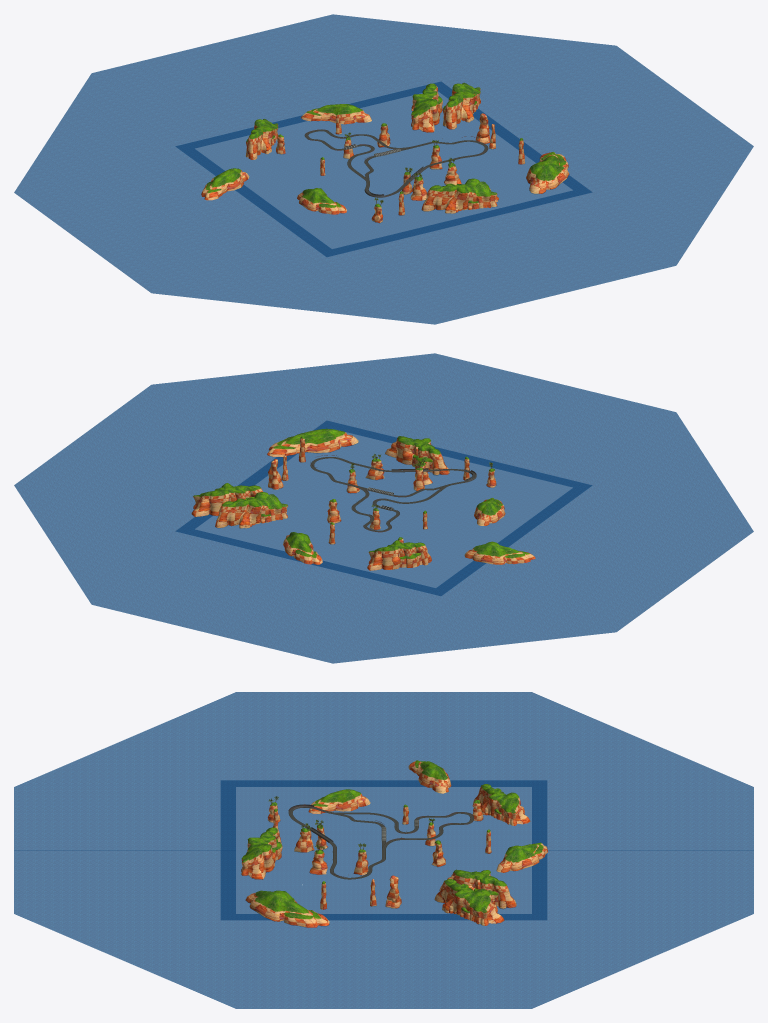
3 renders of one model, top to bottom at view 1: azimuth 30°, elevation 25°; view 2: azimuth 150°, elevation 25°; view 3: azimuth 270°, elevation 25°, orthographic. The views are drawn at different scales.
Visible parts, largest first — view 1: twn_d_sea02xno0_3, twn_d_sea02xno1_4, twn_d_sea01xno0_6, twn_d_farcliff_nos_xno1_19, twn_d_farcliff_nos_xno0_18, twn_d_cliffxno0_29, twn_d_circuitxno2_34; view 2: twn_d_sea02xno0_3, twn_d_sea02xno1_4, twn_d_sea01xno0_6, twn_d_farcliff_nos_xno1_19, twn_d_farcliff_nos_xno0_18, twn_d_cliffxno0_29, twn_d_circuitxno2_34; view 3: twn_d_sea02xno0_3, twn_d_sea02xno1_4, twn_d_sea01xno0_6, twn_d_farcliff_nos_xno1_19, twn_d_farcliff_nos_xno0_18, twn_d_cliffxno0_29, twn_d_circuitxno2_34.
Boxes of the visible parts, x1,y1,x2,y2 form: twn_d_sea02xno0_3: (74,39,693,299); twn_d_sea02xno1_4: (14,14,753,324); twn_d_sea01xno0_6: (175,81,592,257); twn_d_farcliff_nos_xno1_19: (201,82,568,214); twn_d_farcliff_nos_xno0_18: (210,89,569,213); twn_d_cliffxno0_29: (276,113,525,222); twn_d_circuitxno2_34: (304,129,488,196); twn_d_sea02xno0_3: (74,378,693,638); twn_d_sea02xno1_4: (14,353,753,663); twn_d_sea01xno0_6: (175,420,592,596); twn_d_farcliff_nos_xno1_19: (193,428,535,564); twn_d_farcliff_nos_xno0_18: (191,434,506,570); twn_d_cliffxno0_29: (268,440,496,544); twn_d_circuitxno2_34: (310,457,475,531); twn_d_sea02xno0_3: (88,723,679,977); twn_d_sea02xno1_4: (14,692,753,1008); twn_d_sea01xno0_6: (220,780,547,920); twn_d_farcliff_nos_xno1_19: (241,760,548,927); twn_d_farcliff_nos_xno0_18: (241,766,539,925); twn_d_cliffxno0_29: (267,803,491,909); twn_d_circuitxno2_34: (288,806,473,879).
Size of the model in its own units: 3480 by 153 by 3436.
Materials: 20 (20 with a texture image).
